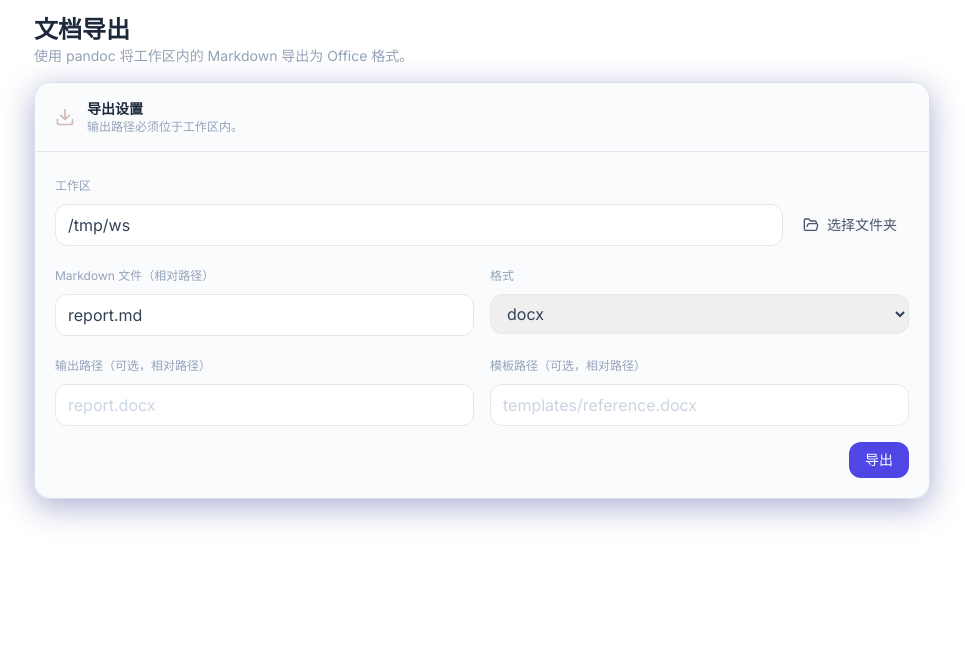
Scenario: shows ErrorBanner when export fails
The width and height of the screenshot is (965, 648).
Click the button with test id "doc-export-run": (879, 460) [849,442,909,478]
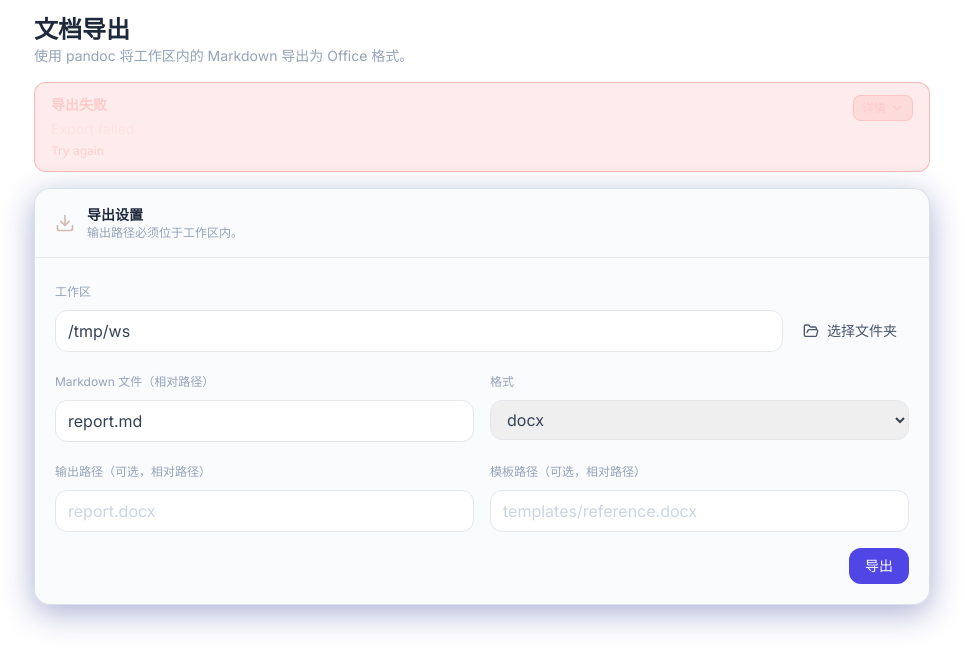
Now the element showing "导出失败 Export failed Try again 详情" is shown, box [34,82,930,172]
